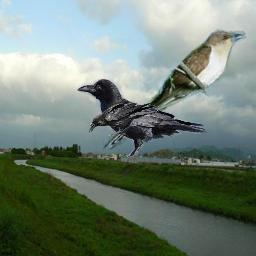Crow: (77, 79, 207, 160), (89, 102, 159, 136)
Cuckoo: (101, 29, 249, 155)
